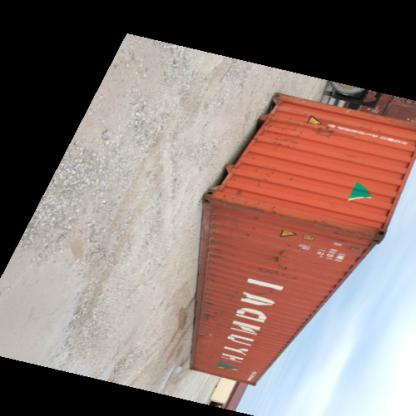Damage: (313, 212, 385, 254), (256, 243, 302, 283), (243, 201, 280, 239), (268, 119, 310, 149), (202, 236, 230, 278), (200, 291, 228, 325), (316, 119, 342, 136), (233, 178, 250, 198)
